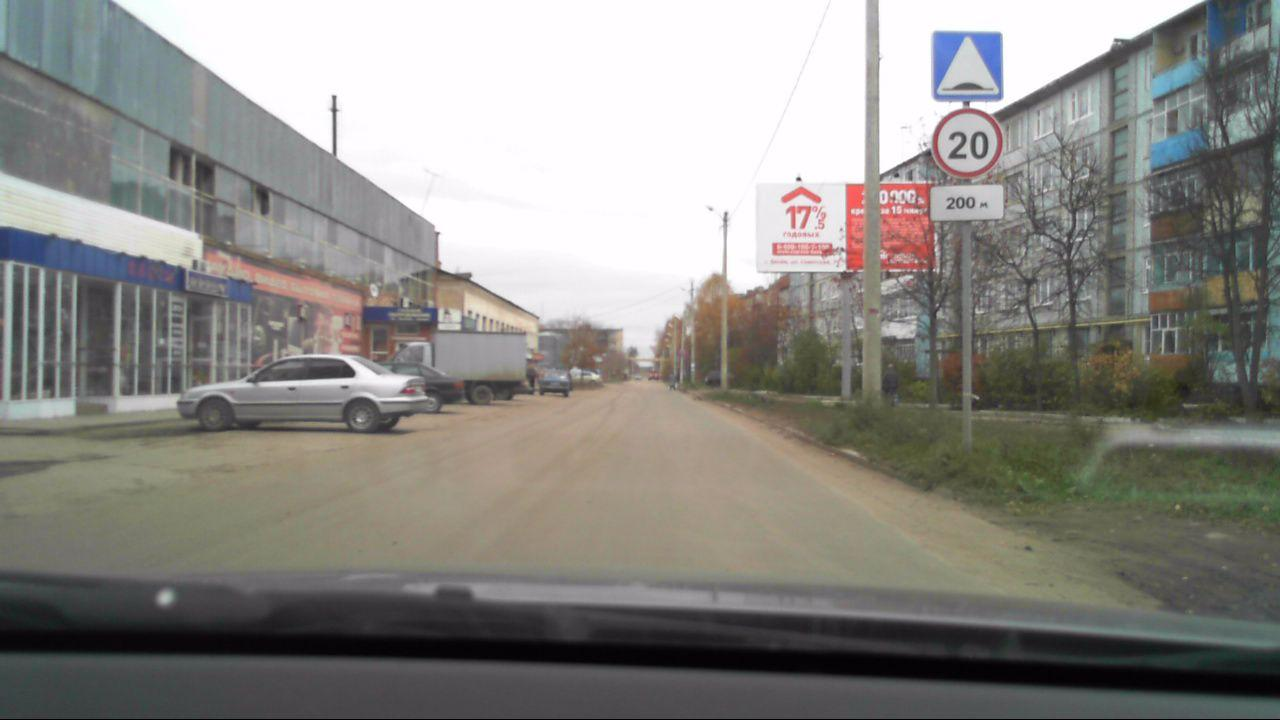3_24: (931, 104, 1003, 179)
5_20: (929, 27, 1003, 99)
8_1_1: (930, 185, 1003, 223)
